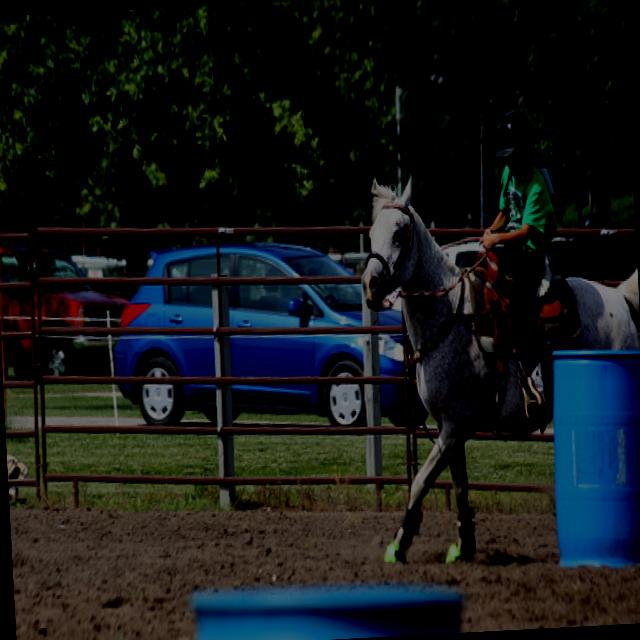Vehicle: (109, 234, 409, 443), (0, 235, 127, 381), (0, 240, 130, 380), (546, 237, 599, 281)
